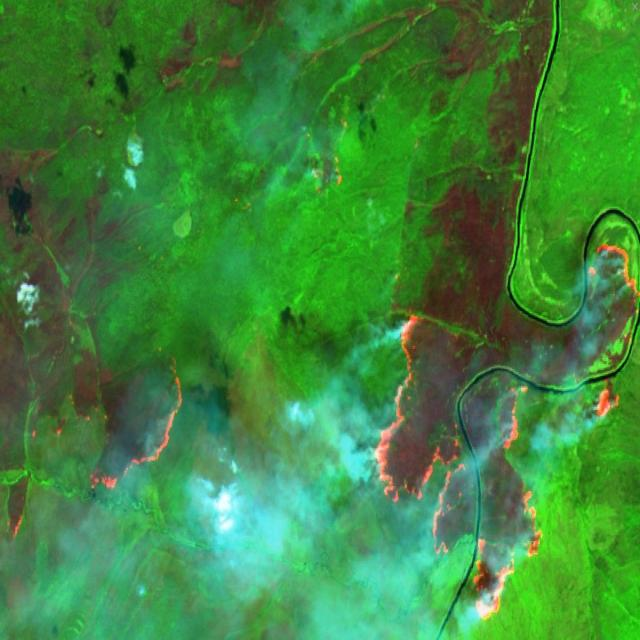fire: (371, 238, 640, 623), (88, 370, 187, 497)
